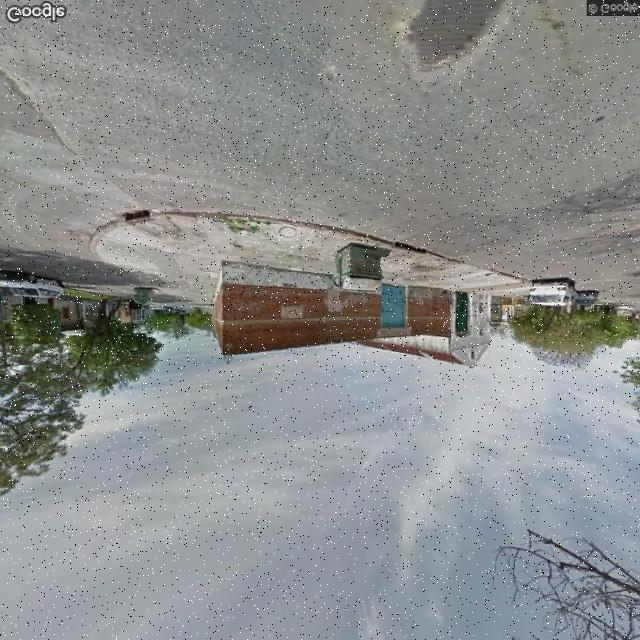garbage container: (327, 239, 397, 297)
